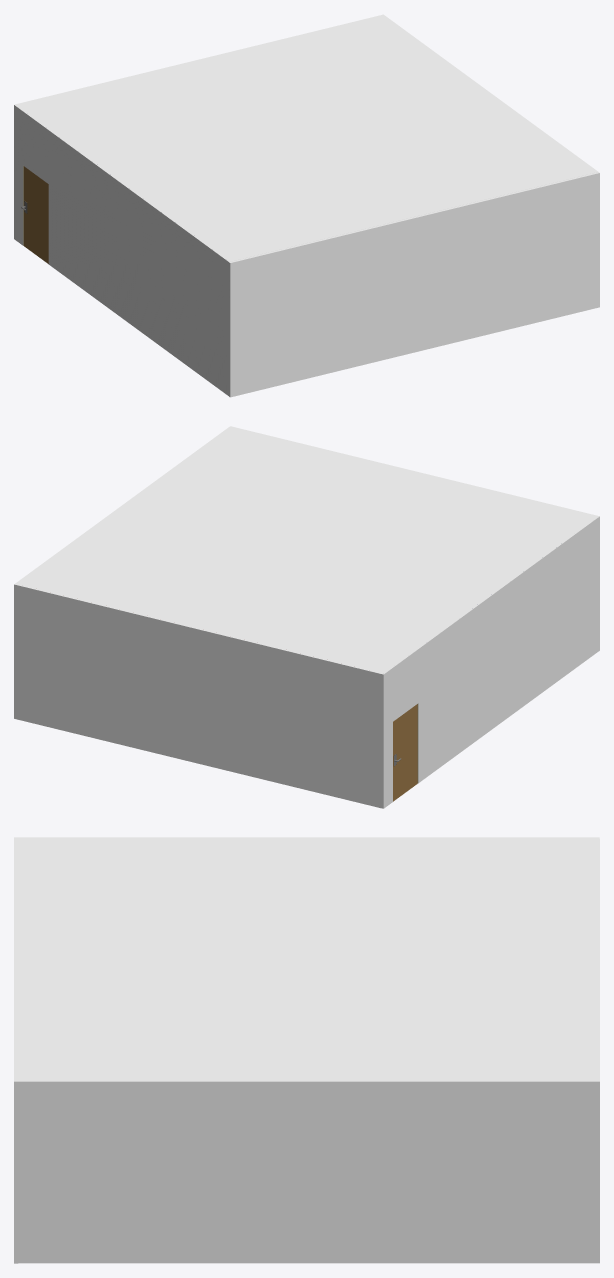
The model's file is StaticRoom.gltf.
3 renders of one model, top to bottom at view 1: azimuth 30°, elevation 25°; view 2: azimuth 150°, elevation 25°; view 3: azimuth 270°, elevation 25°, orthographic. The views are drawn at different scales.
Visible parts, largest first — view 1: Room; view 2: Room; view 3: Room.
Part boxes in pixels (left/top/right/bottom): Room: left=14, top=14, right=599, bottom=397; Room: left=14, top=426, right=599, bottom=808; Room: left=14, top=837, right=599, bottom=1263.
Bounding box in the file's own units: 10.64 × 3.74 × 10.69.
Materials: 1 (1 with a texture image).
